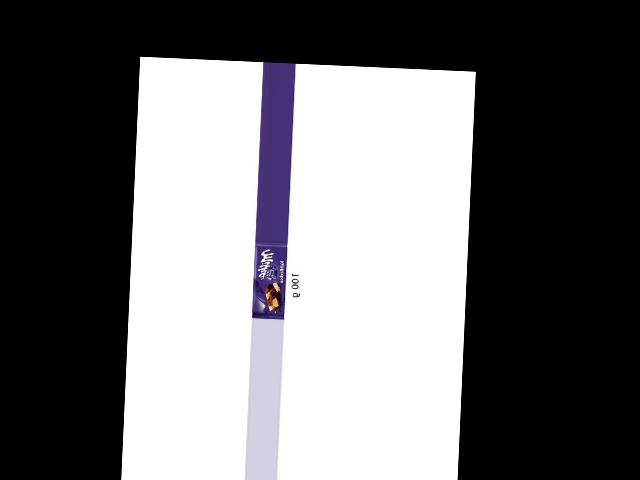chocolate: (250, 241, 292, 320)
